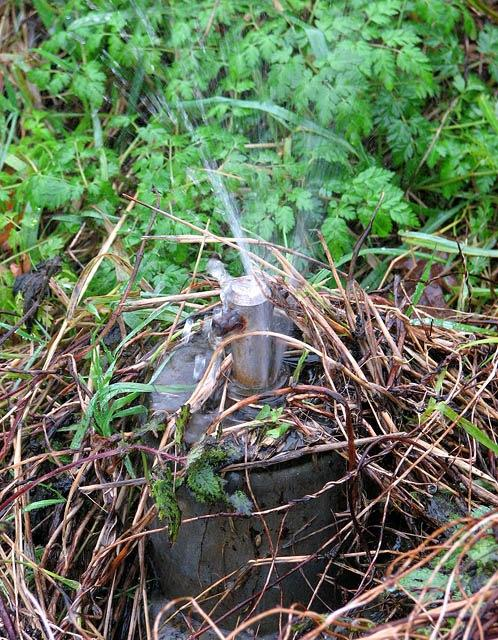pipe burst: (162, 50, 345, 310)
